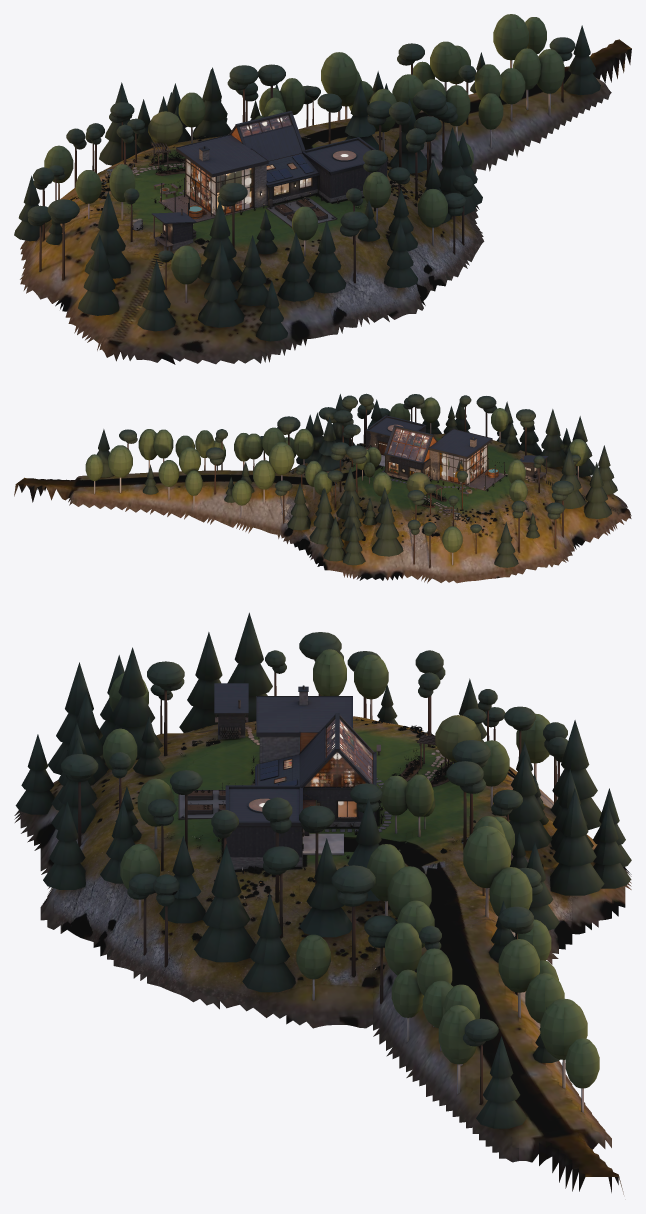
Rendered from star-cabin.glb.
3 views of the same model, one above another, from view 1: azimuth 30°, elevation 25°; view 2: azimuth 150°, elevation 25°; view 3: azimuth 270°, elevation 25° (orthographic). The views are drawn at different scales.
Parts seen in each view (by area): view 1: StarCabin_Trees, StarCabin_Ground, StarCabin_House; view 2: StarCabin_Trees, StarCabin_Ground, StarCabin_House; view 3: StarCabin_Trees, StarCabin_Ground, StarCabin_House.
Boxes of the visible parts, box(x1,y1,x2,y2) form: StarCabin_Trees: box(14, 14, 600, 341); StarCabin_Ground: box(20, 39, 631, 364); StarCabin_House: box(70, 111, 452, 250); StarCabin_Trees: box(85, 393, 617, 568); StarCabin_Ground: box(14, 433, 631, 583); StarCabin_House: box(292, 415, 548, 538); StarCabin_Trees: box(15, 612, 631, 1128); StarCabin_Ground: box(14, 716, 631, 1194); StarCabin_House: box(159, 683, 510, 970).
Size of the model in its own units: 96 by 18.7 by 55.8.
3 materials, 3 textured.
